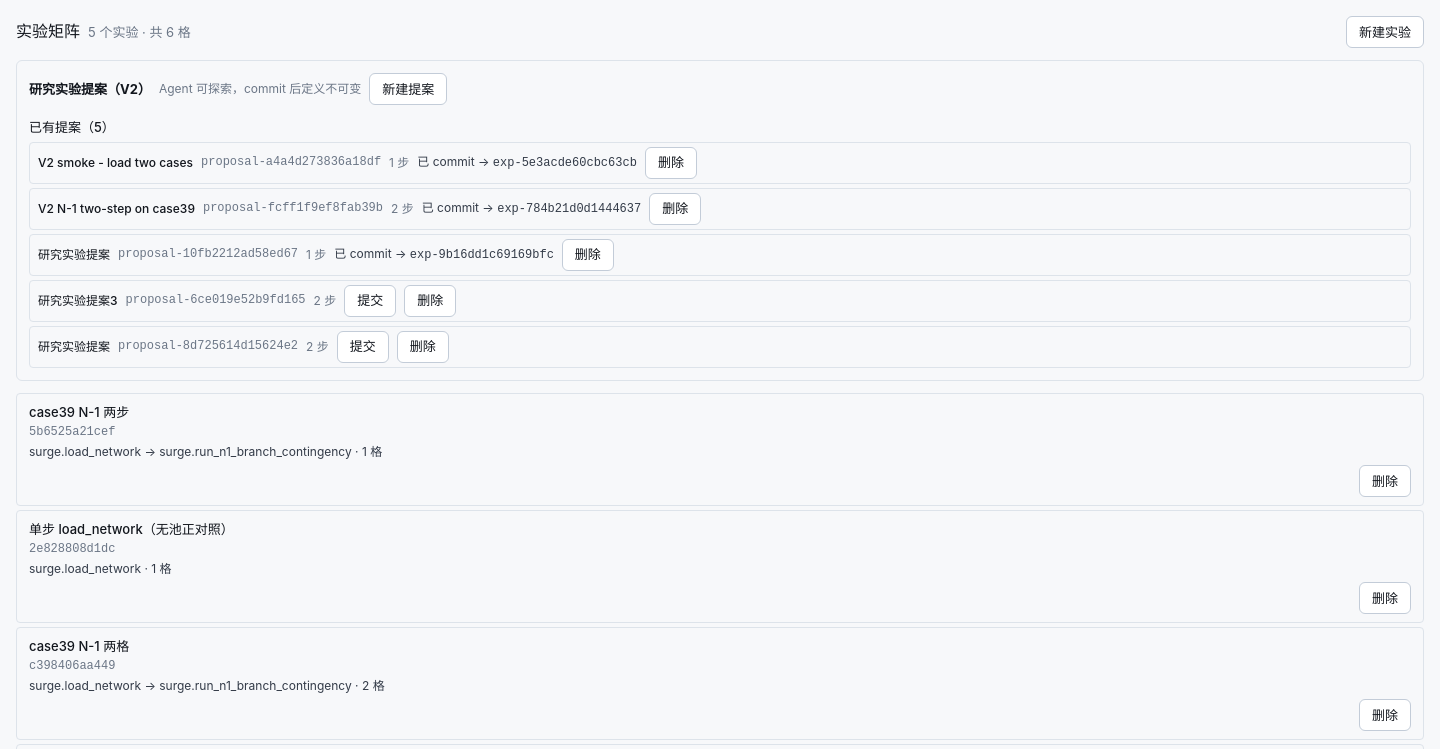
Test: ExperimentsView › 删除实验 → 二次确认后 DELETE，并清掉当前选择
Expected: the text "case39 N-1 两步" is shown, [29,404,129,420]
Click the button with aria-label "删除实验 case39 N-1 两步": (1385,481) [1359,465,1411,497]
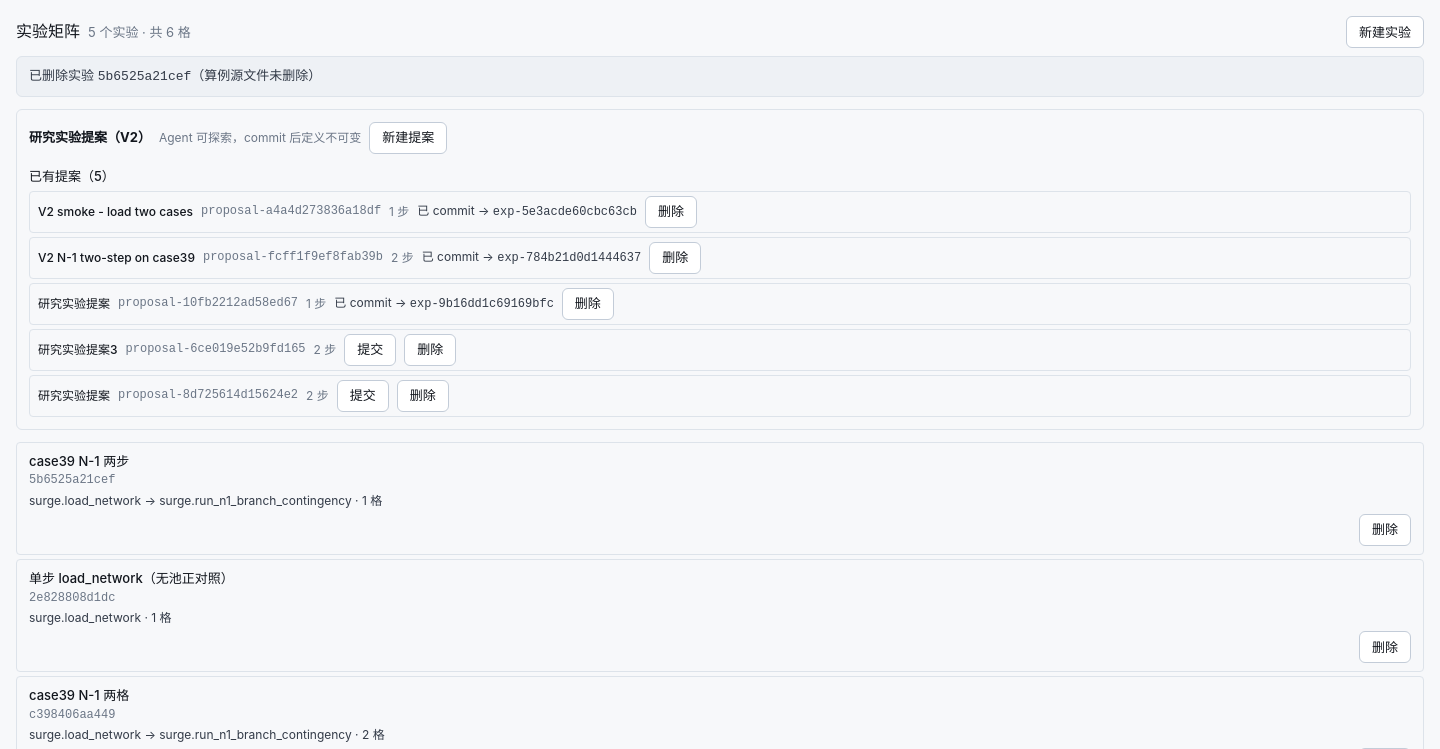
Now the text "已删除实验 5b6525a21cef（算例源文件未删除）" is shown, box [16,56,1424,97]
